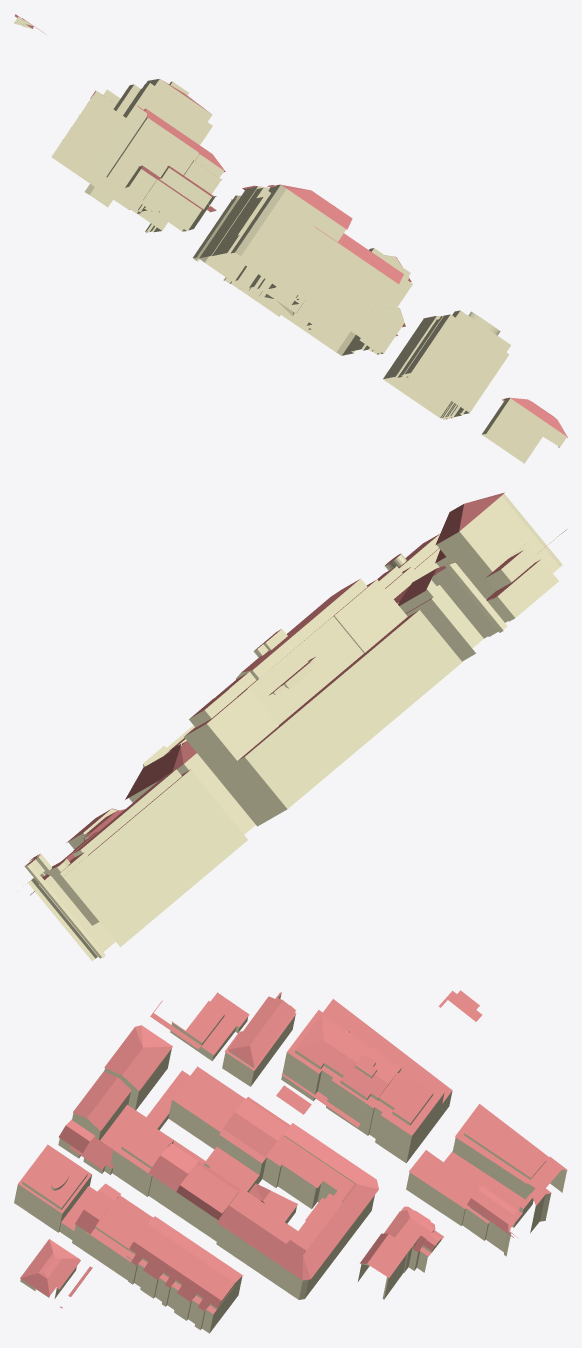
File: tile_100.glb
The picture shows the model from 3 angles, top to bottom: view 1: azimuth 30°, elevation 25°; view 2: azimuth 150°, elevation 25°; view 3: azimuth 270°, elevation 25°; orthographic projection. The views are drawn at different scales.
Visible parts, largest first — view 1: Batched_Building_ID_D50FE507-FC75-4DDF-AAA1-A7D4DBD8AFA9, Batched_Building_ID_49052C32-13DC-4A75-940B-98C259E8770E; view 2: Batched_Building_ID_D50FE507-FC75-4DDF-AAA1-A7D4DBD8AFA9, Batched_Building_ID_49052C32-13DC-4A75-940B-98C259E8770E; view 3: Batched_Building_ID_49052C32-13DC-4A75-940B-98C259E8770E, Batched_Building_ID_D50FE507-FC75-4DDF-AAA1-A7D4DBD8AFA9.
Boxes of the visible parts, left/top/right/bottom form: Batched_Building_ID_D50FE507-FC75-4DDF-AAA1-A7D4DBD8AFA9: left=14, top=16, right=566, bottom=463; Batched_Building_ID_49052C32-13DC-4A75-940B-98C259E8770E: left=15, top=14, right=567, bottom=437; Batched_Building_ID_D50FE507-FC75-4DDF-AAA1-A7D4DBD8AFA9: left=25, top=493, right=567, bottom=961; Batched_Building_ID_49052C32-13DC-4A75-940B-98C259E8770E: left=24, top=492, right=557, bottom=895; Batched_Building_ID_49052C32-13DC-4A75-940B-98C259E8770E: left=18, top=990, right=567, bottom=1314; Batched_Building_ID_D50FE507-FC75-4DDF-AAA1-A7D4DBD8AFA9: left=14, top=994, right=566, bottom=1333.
Bounding box in the file's own units: 110 × 102 × 203.
